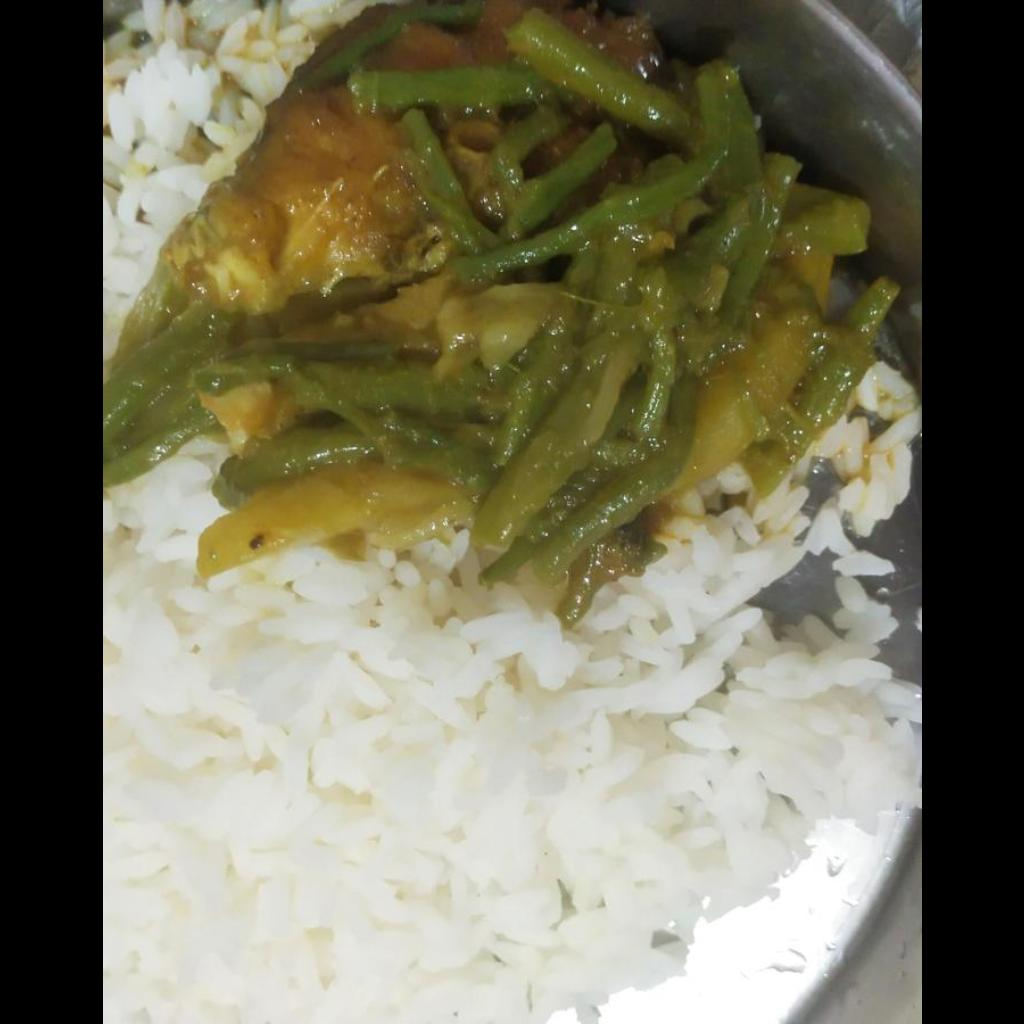fish: (102, 1, 903, 621)
rice: (102, 444, 919, 1023)
